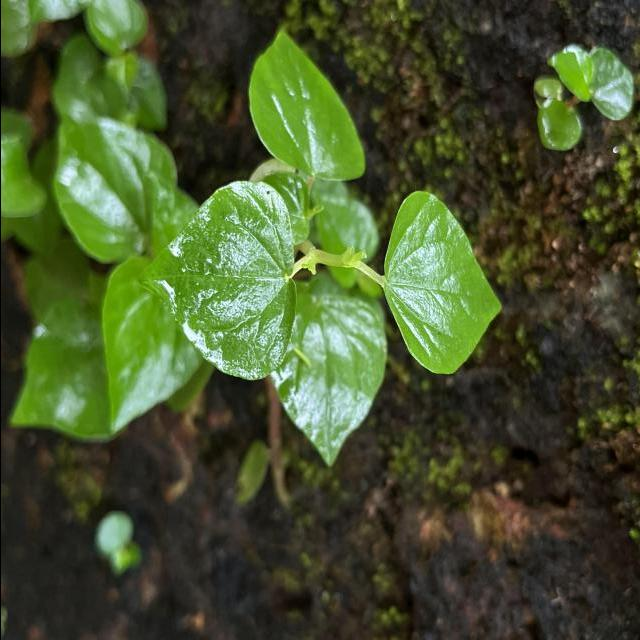Peperomia pellucida: (134, 176, 298, 382), (374, 188, 506, 379)
